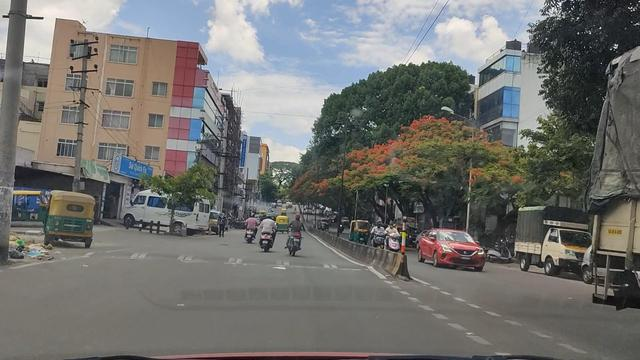SpeedBump: (85, 246, 369, 273)
